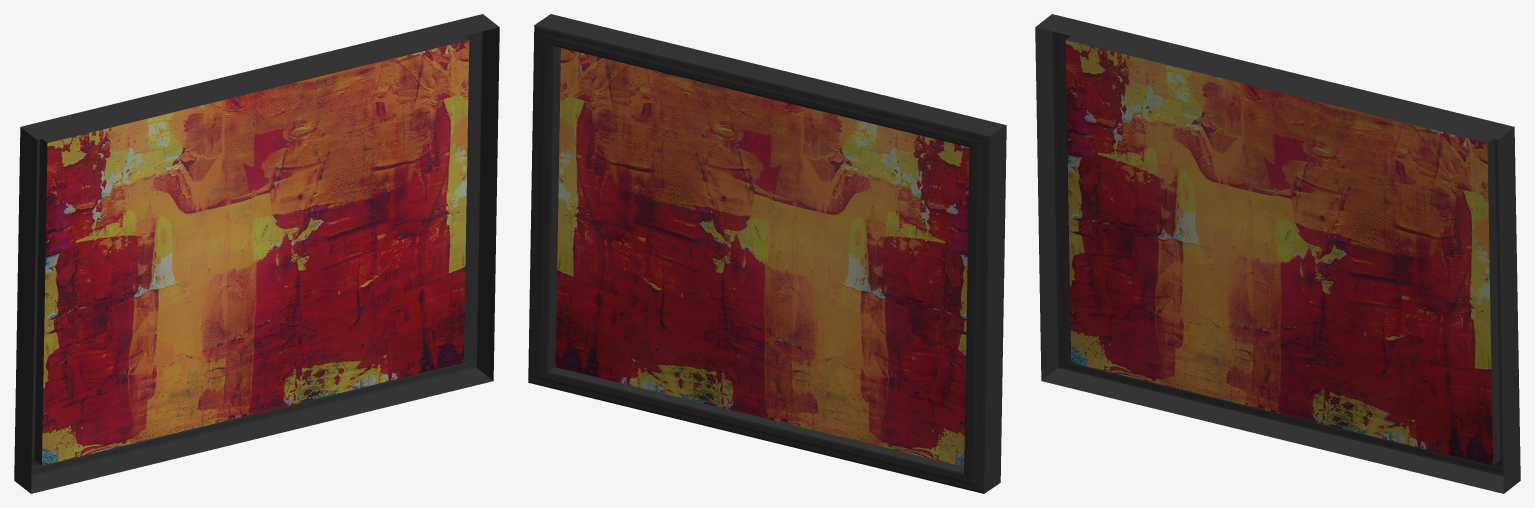
Rendered from AIR0210010.fbx.
3 renders of one model, left to right at view 1: azimuth 30°, elevation 25°; view 2: azimuth 150°, elevation 25°; view 3: azimuth 330°, elevation 25°, orthographic.
Visible parts, largest first — view 1: smAIR0210010; view 2: smAIR0210010; view 3: smAIR0210010.
Boxes of the visible parts, x1=… form: smAIR0210010: x1=14, y1=14, x2=499, y2=493; smAIR0210010: x1=528, y1=14, x2=1006, y2=493; smAIR0210010: x1=1035, y1=14, x2=1520, y2=493.
Bounding box in the file's own units: 51.11 × 37.93 × 4.48.
1 material, 1 textured.
